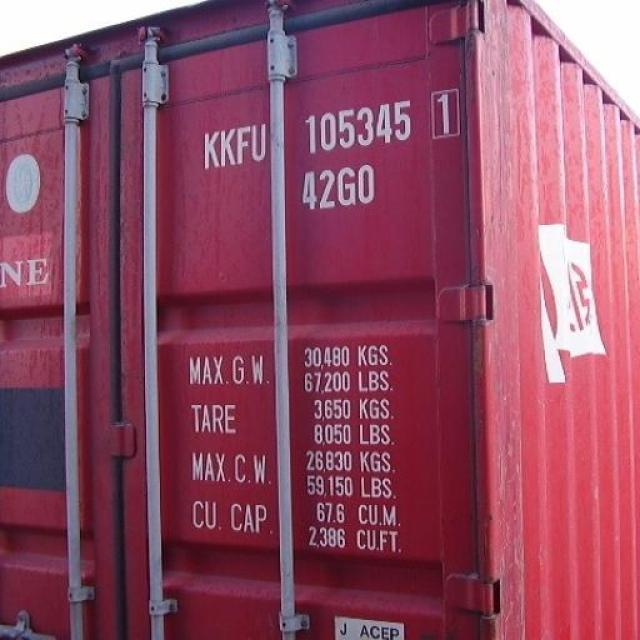ISO: (302, 168, 381, 205)
container_number: (198, 88, 467, 176)
